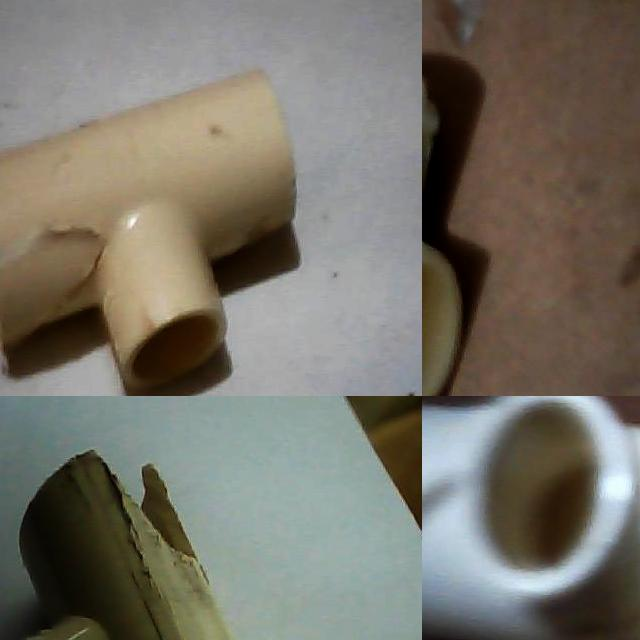Defective: (88, 450, 200, 564), (0, 215, 117, 319), (422, 79, 440, 218)
T Joint: (0, 71, 297, 396), (422, 396, 640, 640), (17, 451, 232, 640)
